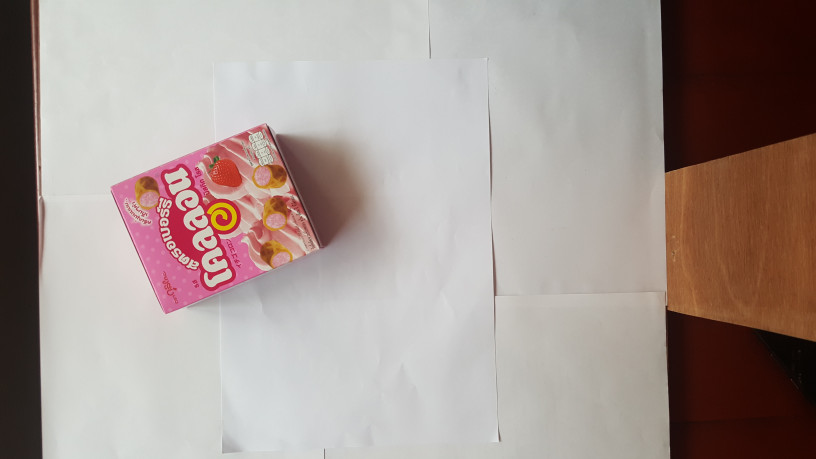collon-strawberry: (109, 123, 326, 316)
